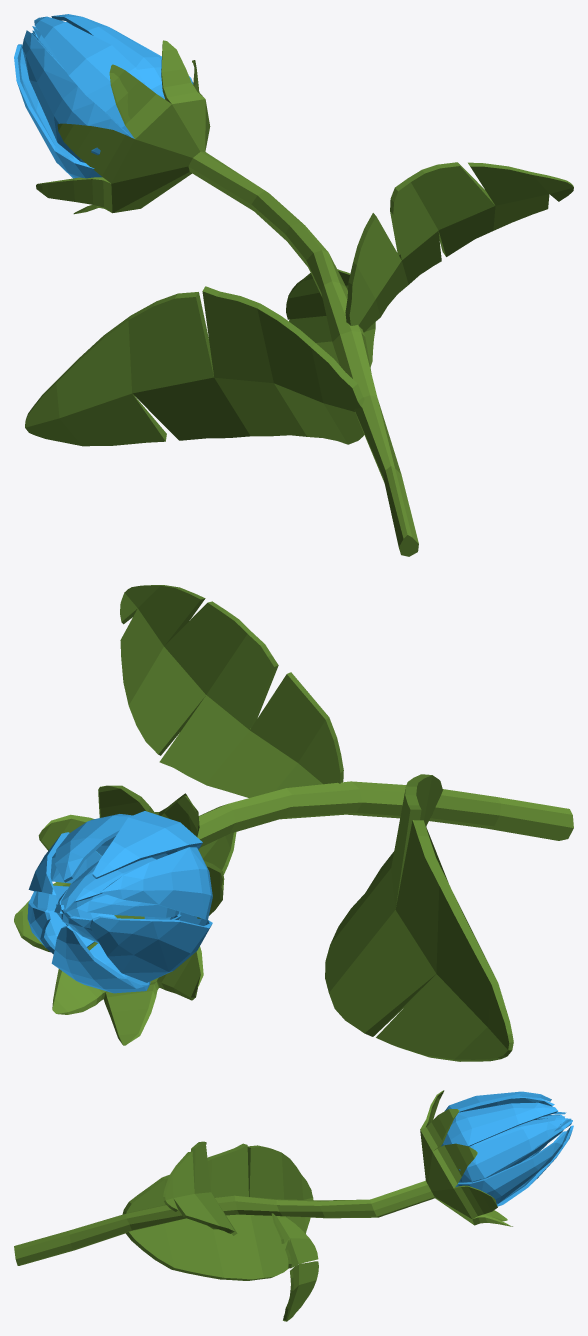
The model's file is flower2.gltf.
3 renders of one model, top to bottom at view 1: azimuth 30°, elevation 25°; view 2: azimuth 150°, elevation 25°; view 3: azimuth 270°, elevation 25°, orthographic. The views are drawn at different scales.
Visible parts, largest first — view 1: Tulip_blue_06_Material_0; view 2: Tulip_blue_06_Material_0; view 3: Tulip_blue_06_Material_0.
Part boxes in pixels (x1=…): Tulip_blue_06_Material_0: x1=14, y1=14, x2=573, y2=556; Tulip_blue_06_Material_0: x1=14, y1=585, x2=573, y2=1061; Tulip_blue_06_Material_0: x1=14, y1=1090, x2=573, y2=1321.
Bounding box in the file's own units: 2.18 × 1.33 × 3.47.
1 material, 1 textured.
